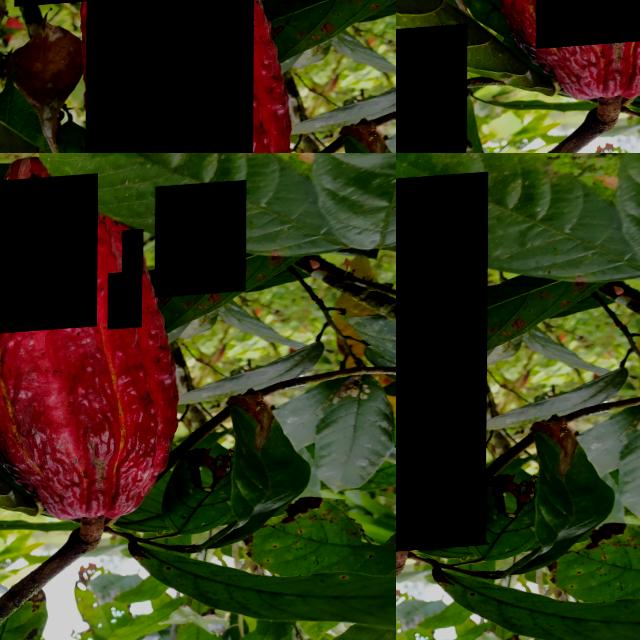Fitoftora: (155, 188, 246, 303), (123, 235, 143, 282)
Sana: (396, 178, 488, 564), (86, 0, 254, 153), (0, 178, 98, 337), (396, 26, 467, 153), (536, 0, 640, 52), (108, 277, 143, 335)
